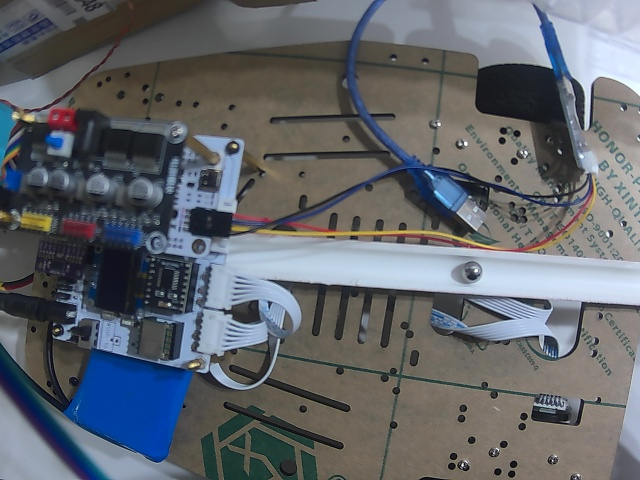steelball: (461, 261, 483, 282)
